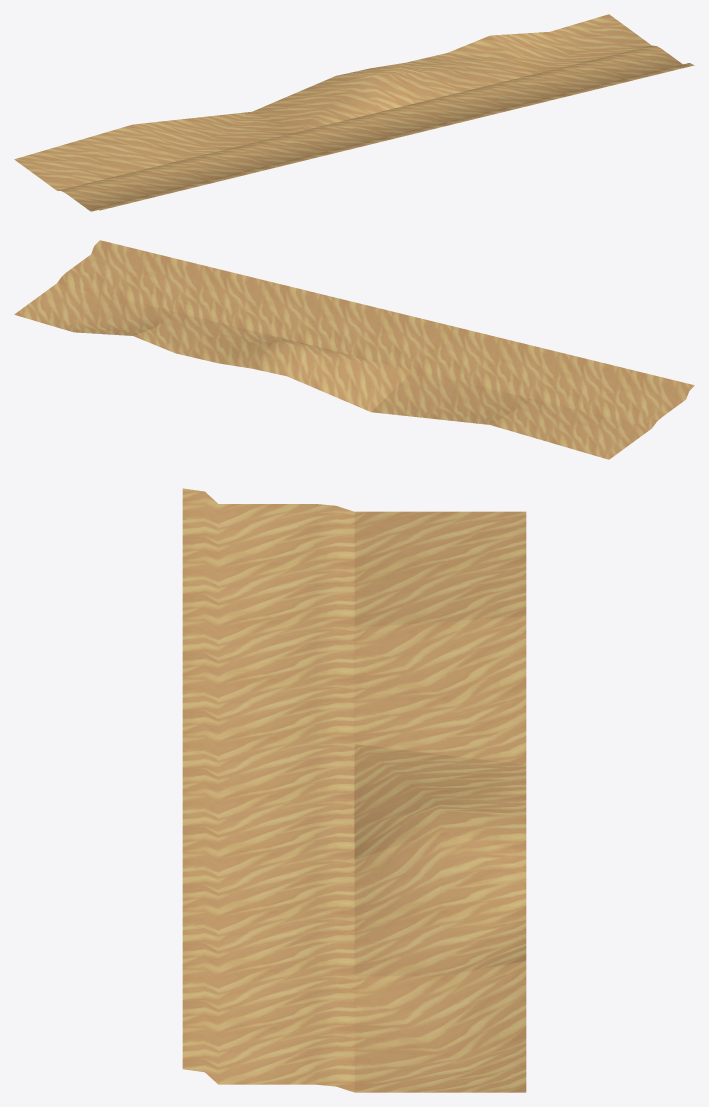
Rendered from S0_Floor_Back.FBX.
3 renders of one model, top to bottom at view 1: azimuth 30°, elevation 25°; view 2: azimuth 150°, elevation 25°; view 3: azimuth 270°, elevation 25°, orthographic. The views are drawn at different scales.
Visible parts, largest first — view 1: S0_Floor_Back; view 2: S0_Floor_Back; view 3: S0_Floor_Back.
Part boxes in pixels (<box>): S0_Floor_Back: <box>14,14,694,211</box>; S0_Floor_Back: <box>14,240,694,459</box>; S0_Floor_Back: <box>182,488,526,1092</box>.
Size of the model in its own units: 80000 by 20000 by 3487.
1 material, 1 textured.
